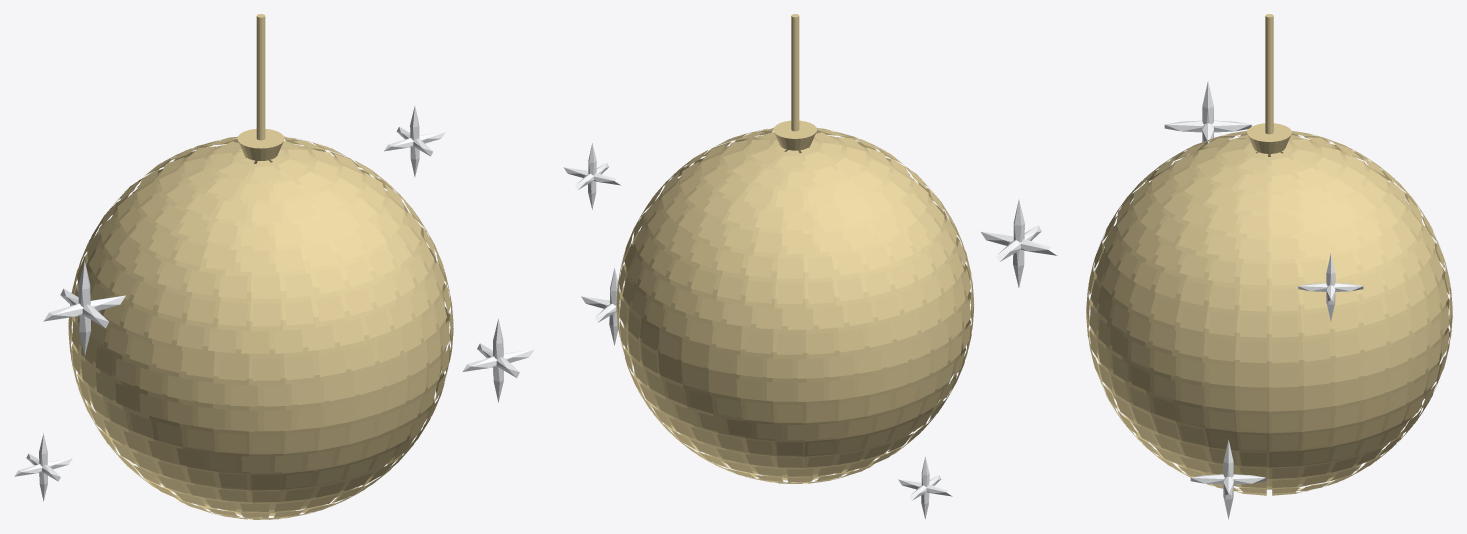
The model's file is disco.glb.
The picture shows the model from 3 angles, left to right: view 1: azimuth 30°, elevation 25°; view 2: azimuth 150°, elevation 25°; view 3: azimuth 270°, elevation 25°; orthographic projection. The views are drawn at different scales.
Visible parts, largest first — view 1: Disco_XVA_Editorial; view 2: Disco_XVA_Editorial; view 3: Disco_XVA_Editorial.
Part boxes in pixels (x1,y1,x2,y2): Disco_XVA_Editorial: (14,14,534,519); Disco_XVA_Editorial: (563,14,1057,519); Disco_XVA_Editorial: (1086,14,1452,519).
Bounding box in the file's own units: 1.35 × 1.25 × 0.8958.
